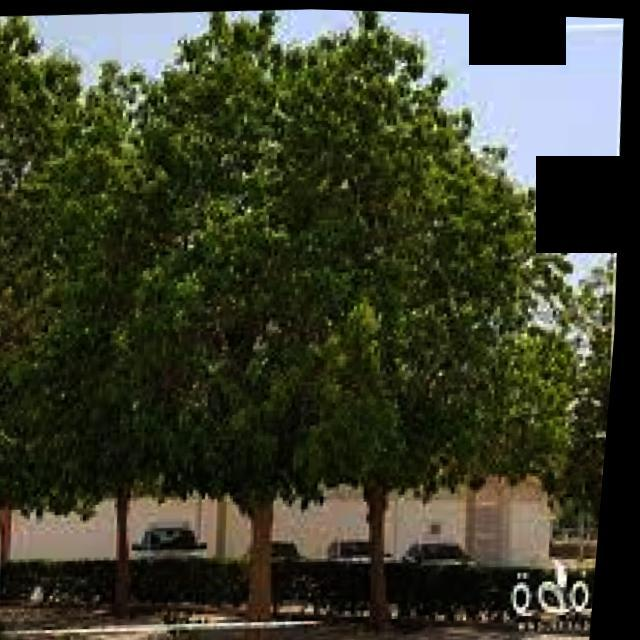Tree: (256, 8, 606, 624), (62, 4, 361, 632), (1, 12, 130, 626)
